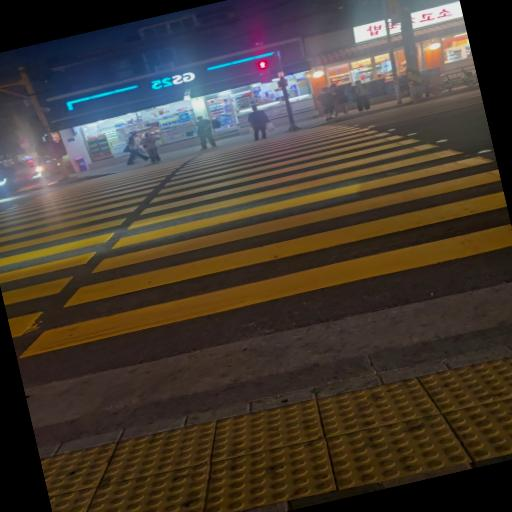yellow-crosswalk: (0, 82, 512, 379)
